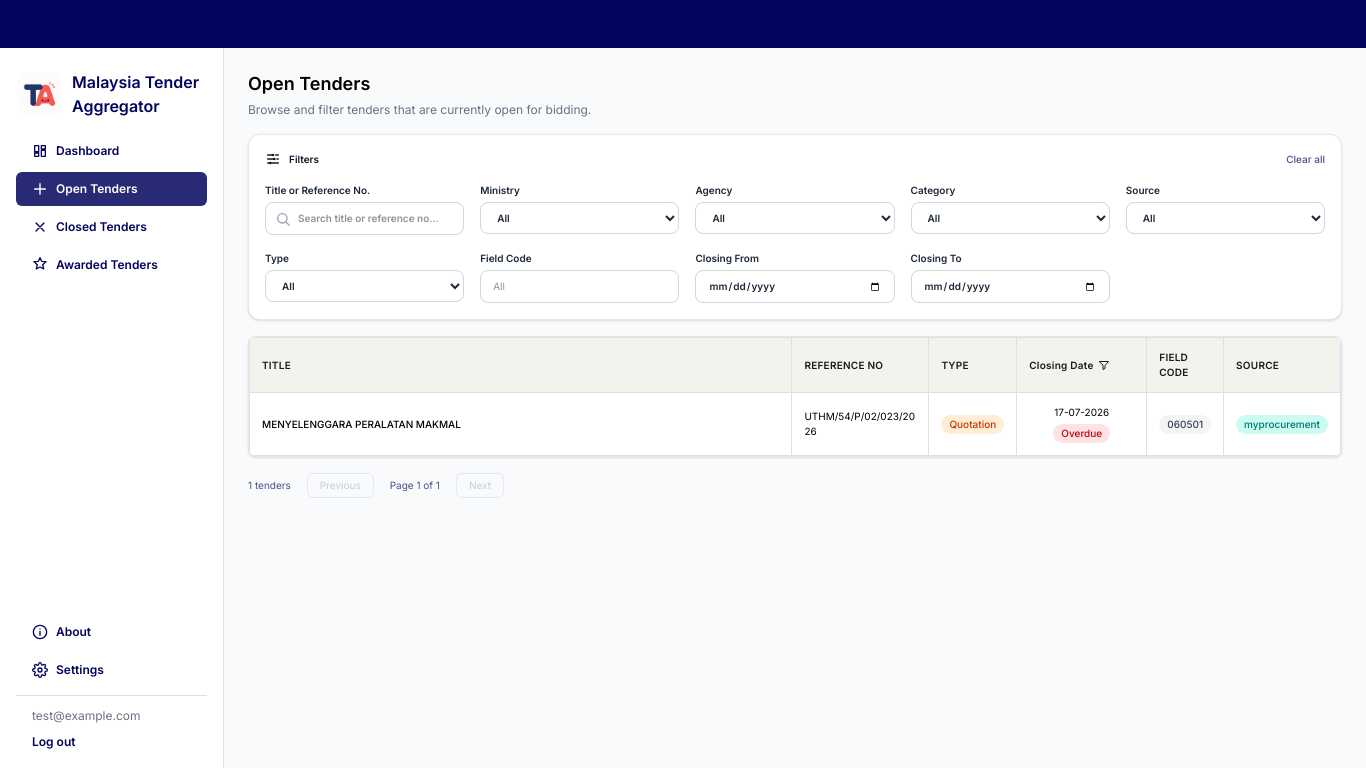
App › renders a Settings link pinned in the nav, leading to the Settings page
Expected: the text "MENYELENGGARA PERALATAN MAKMAL" is shown, top-left (250, 392), bottom-right (792, 456)
Click the link "Settings": (68, 670) top-left (32, 662), bottom-right (104, 678)
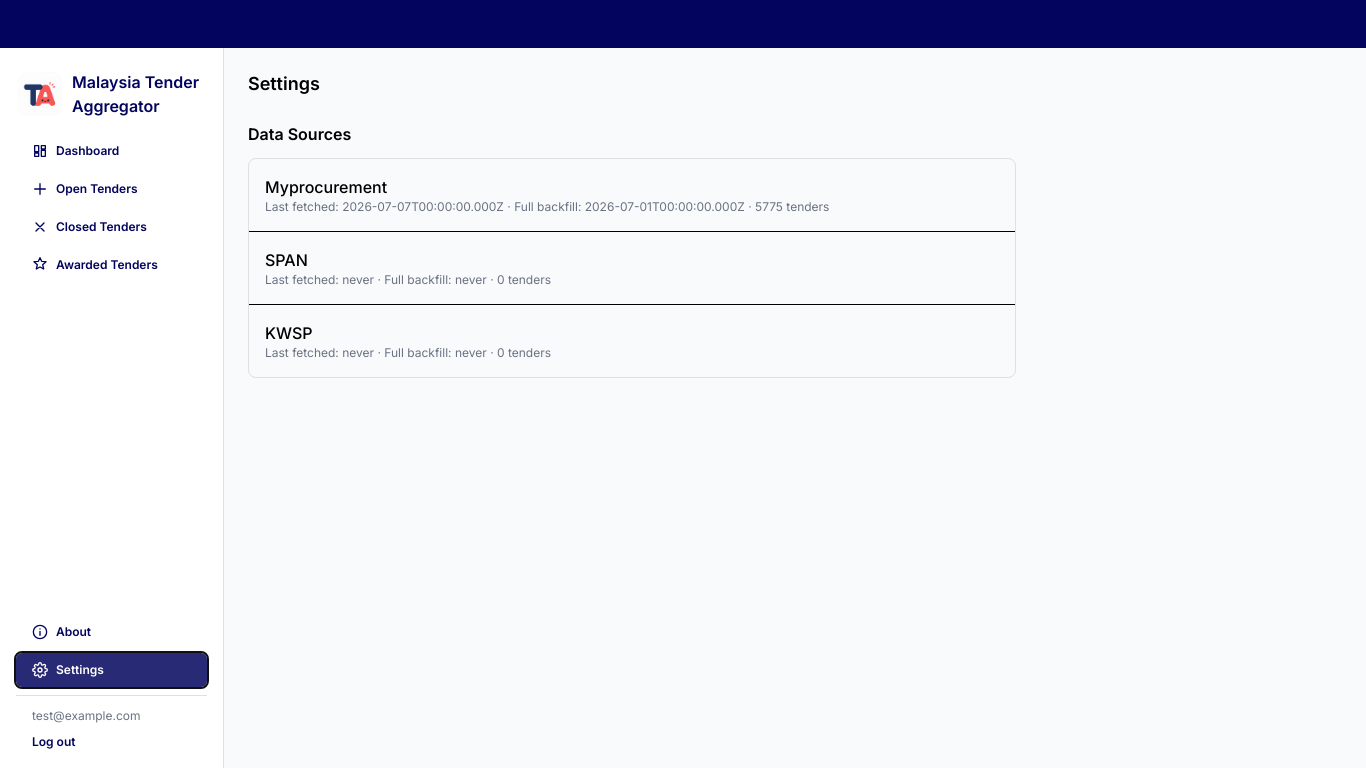
Result: the heading "Data Sources" is shown at top-left (248, 124), bottom-right (351, 144)
